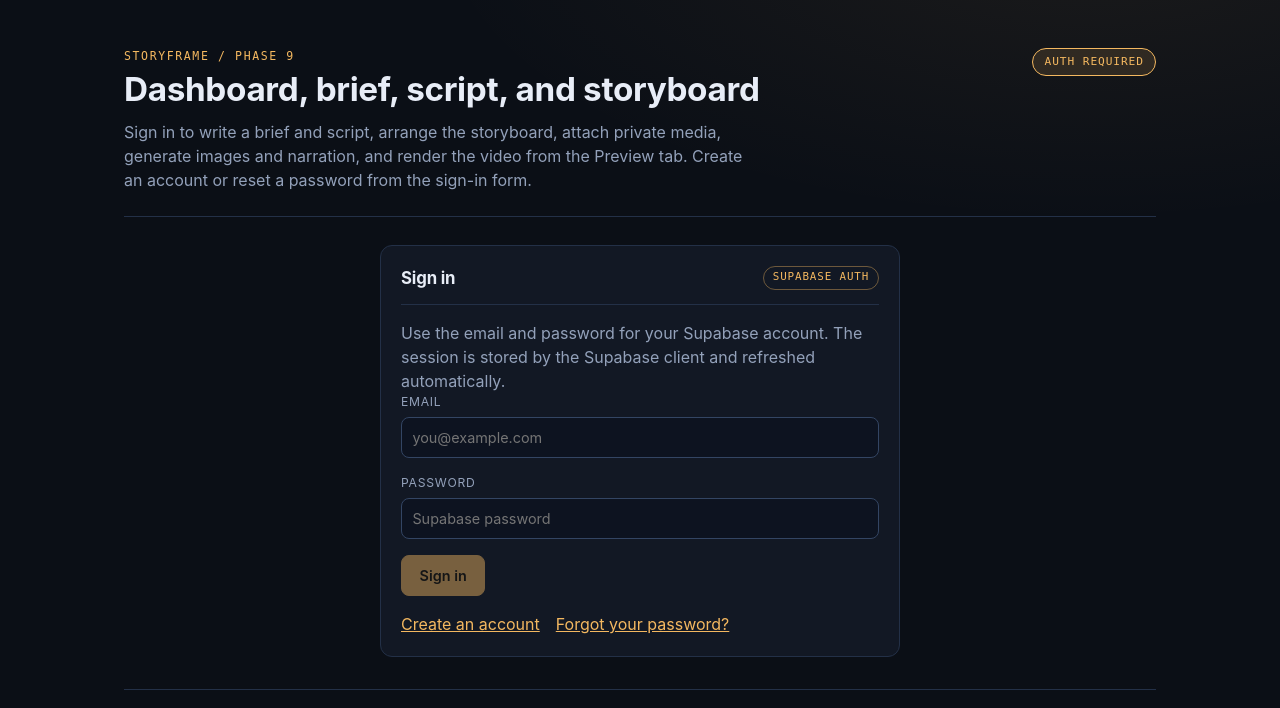
Test: Account flows › creates an account and explains the confirmation email
Expected: the heading "Sign in" is shown, top-left (401, 268), bottom-right (455, 288)
Click the button "Create an account".
click(470, 624)  # box top-left (401, 612), bottom-right (540, 636)
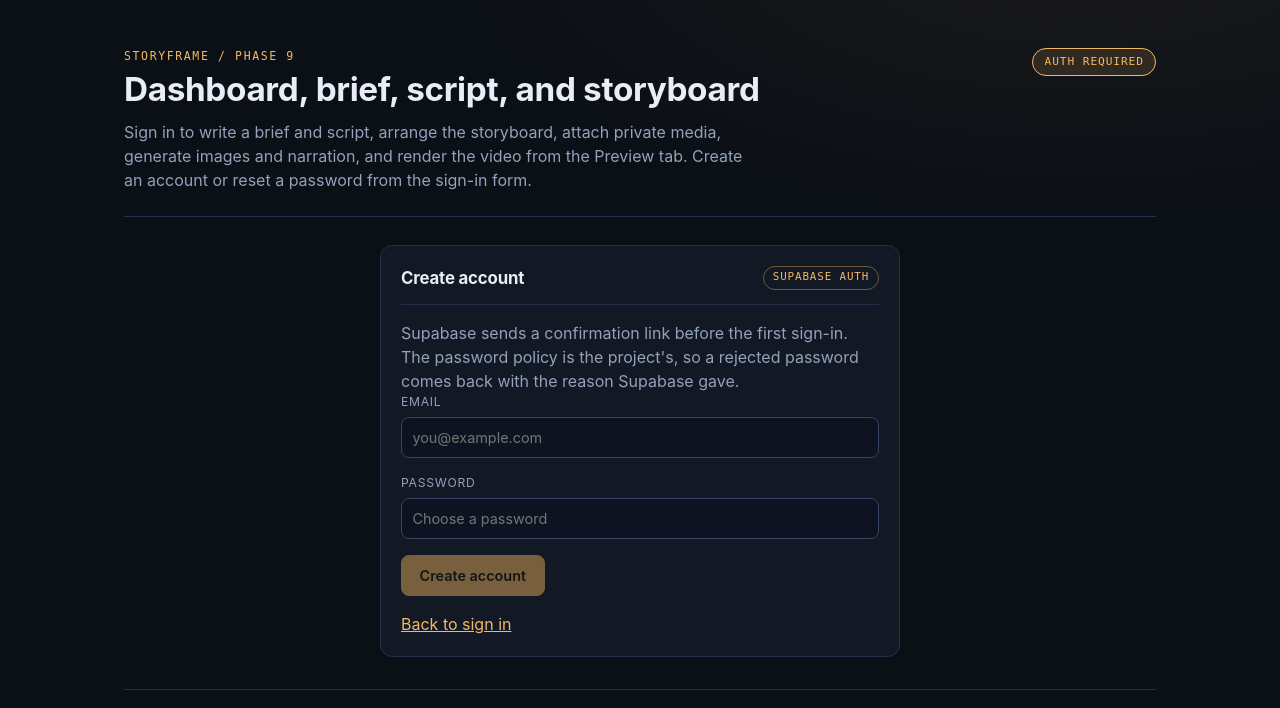
Expected: the heading "Create account" is shown, top-left (401, 268), bottom-right (524, 288)
Type "new@example.com" into the field labelled "Email".
click(640, 438); type("new@example.com")  # box top-left (401, 417), bottom-right (879, 458)
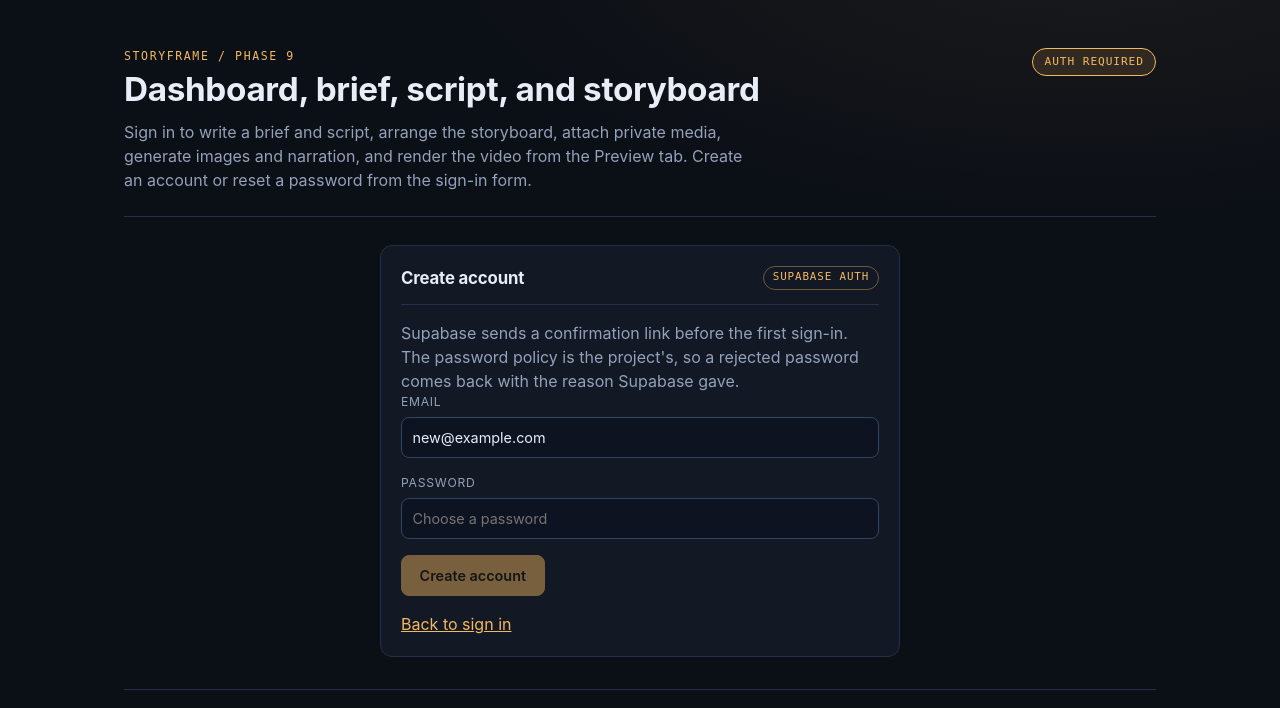
Type "correct horse battery staple" into the password field labelled "Password".
click(640, 518); type("correct horse battery staple")  # box top-left (401, 498), bottom-right (879, 539)
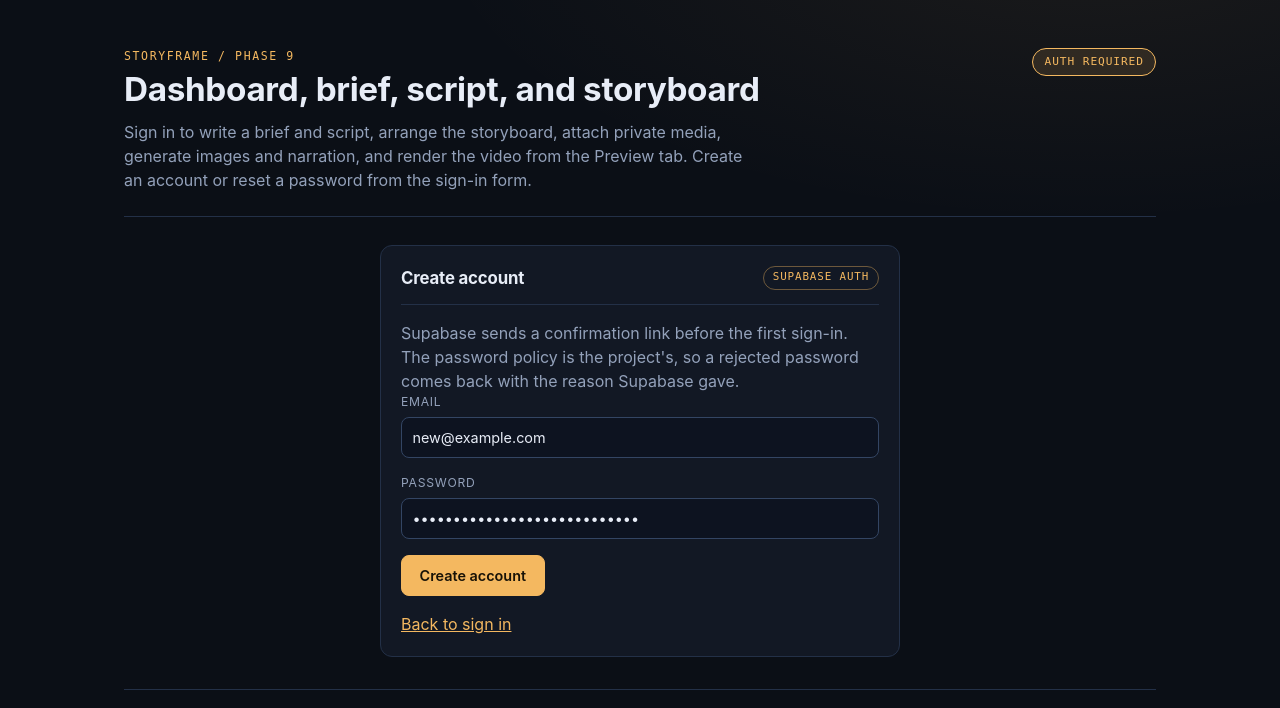
Click the button "Create account".
click(473, 576)  # box top-left (401, 555), bottom-right (545, 596)
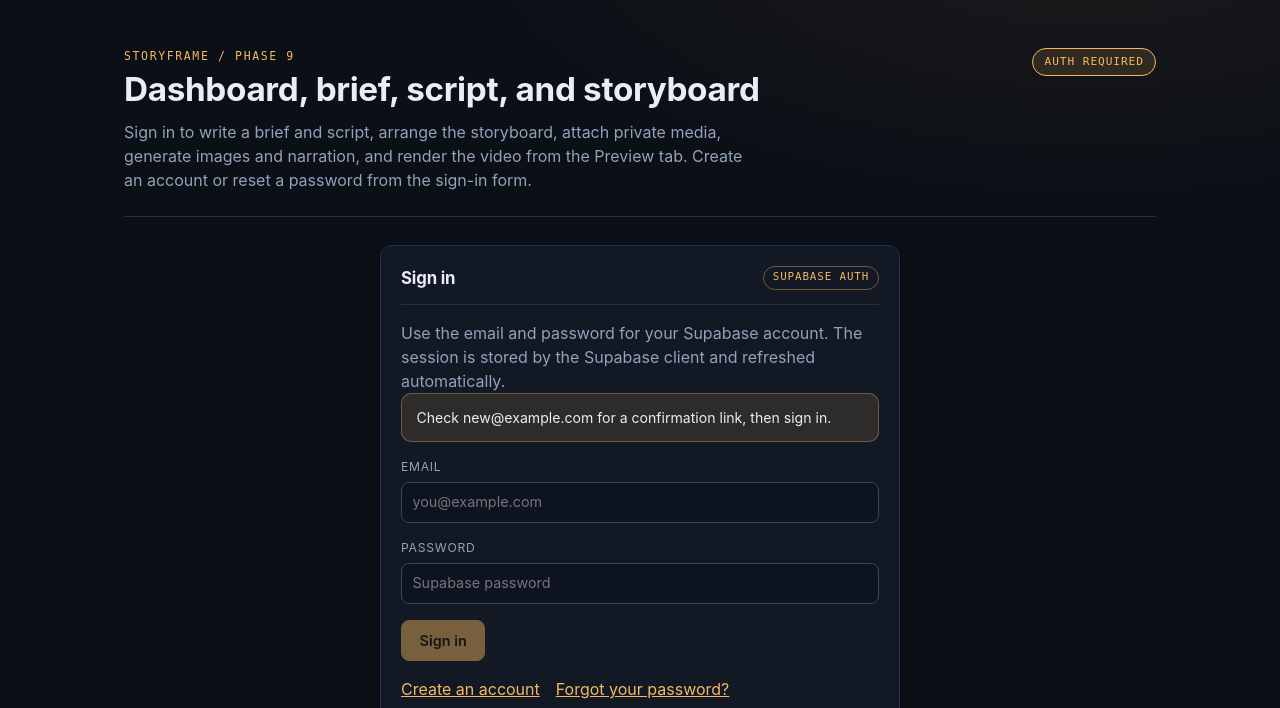
Expected: the text "Check new@example.com for a confirmation link, then sign in." is shown, top-left (401, 393), bottom-right (879, 442)
Expected: the heading "Sign in" is shown, top-left (401, 268), bottom-right (455, 288)
